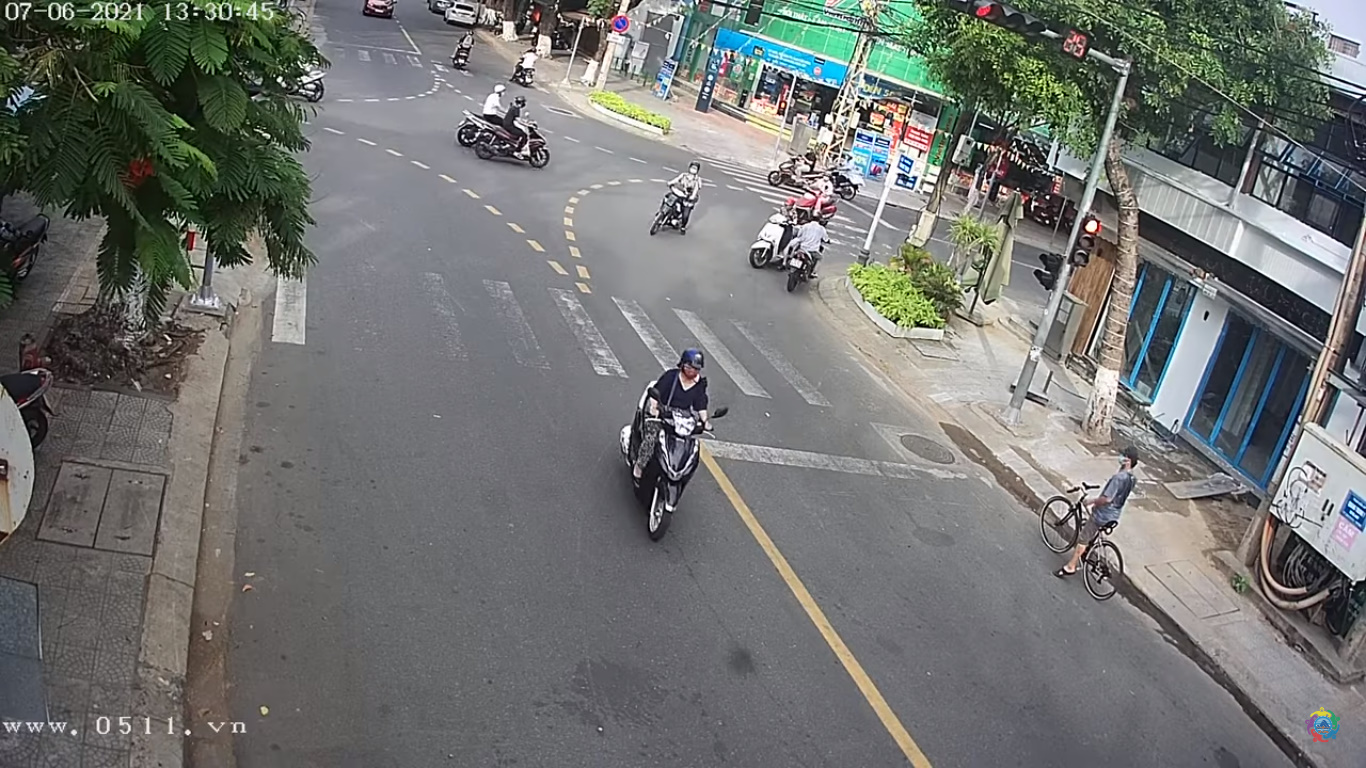car: (362, 0, 394, 16)
motorbike: (627, 352, 708, 544)
